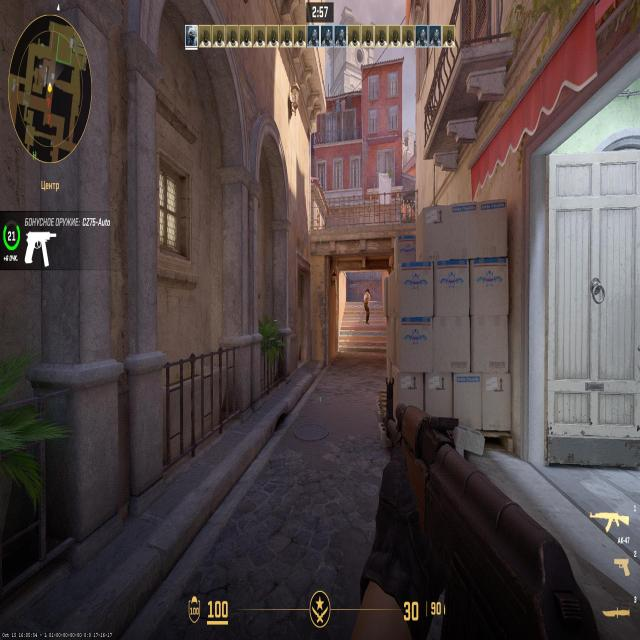T: (365, 289, 370, 323)
T_heat: (366, 291, 368, 297)
